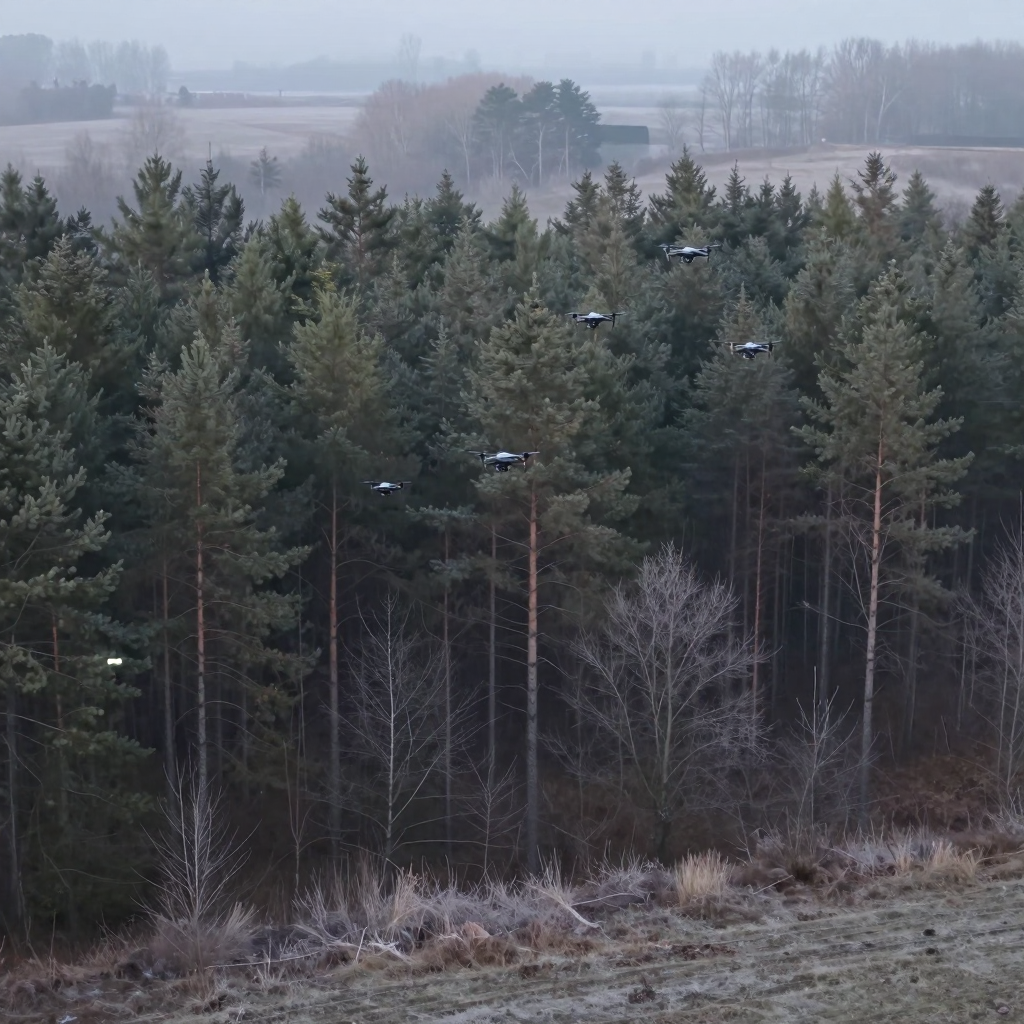drone: (466, 451, 540, 472), (710, 340, 782, 360), (657, 242, 722, 264), (565, 312, 626, 329), (359, 481, 411, 496), (512, 451, 540, 472)
